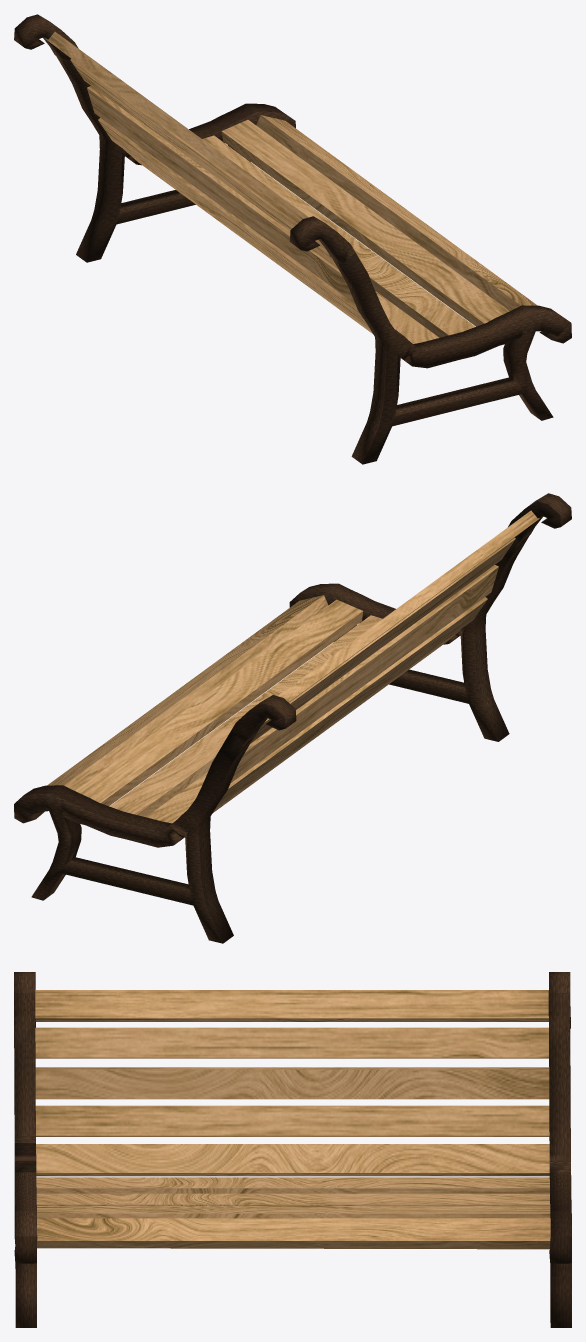
The model's file is Bench.fbx.
3 views of the same model, one above another, from view 1: azimuth 30°, elevation 25°; view 2: azimuth 150°, elevation 25°; view 3: azimuth 270°, elevation 25° (orthographic). The views are drawn at different scales.
Parts seen in each view (by area): view 1: Bench, Legs; view 2: Bench, Legs; view 3: Bench, Legs.
Part boxes in pixels (box(x1,y1,x2,y2)): Bench: box(45, 31, 537, 343); Legs: box(14, 14, 571, 464); Bench: box(47, 510, 539, 823); Legs: box(14, 493, 571, 943); Bench: box(35, 990, 550, 1249); Legs: box(14, 972, 571, 1327).
Bounding box in the file's own units: 178 × 157 × 326.
2 materials, 2 textured.
